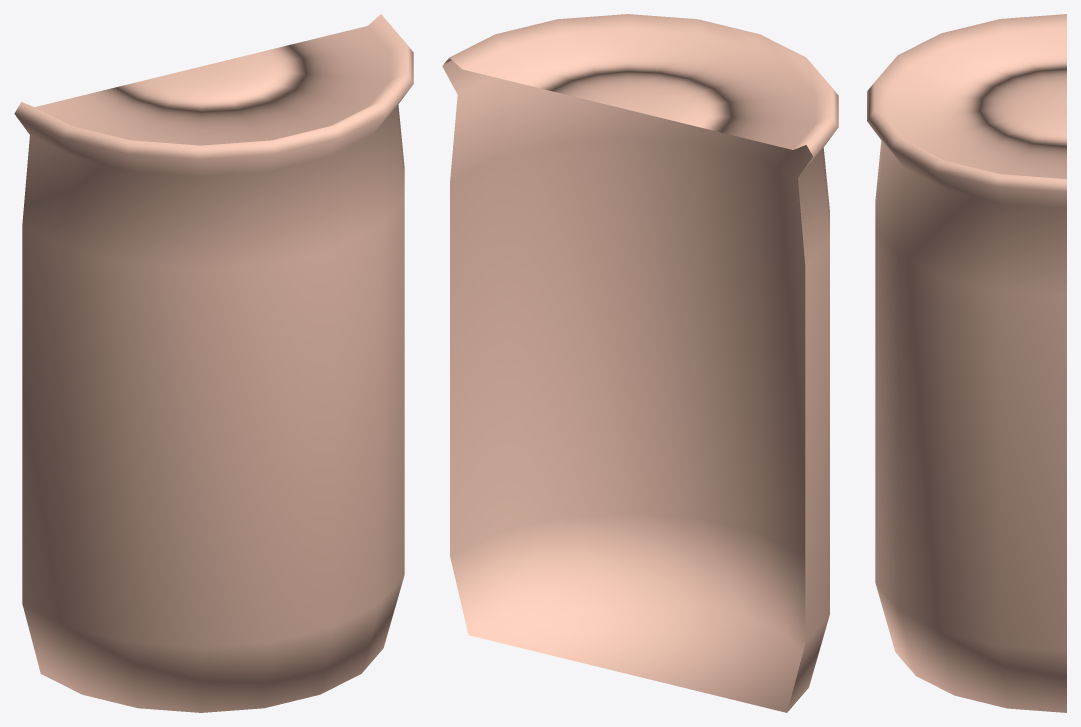
Rendered from barrel_high_1.dae.
3 renders of one model, left to right at view 1: azimuth 30°, elevation 25°; view 2: azimuth 150°, elevation 25°; view 3: azimuth 270°, elevation 25°, orthographic. The views are drawn at different scales.
Visible parts, largest first — view 1: Plane; view 2: Plane; view 3: Plane.
Part boxes in pixels (x1,y1,x2,y2): Plane: (14,14,413,712); Plane: (442,14,838,712); Plane: (867,14,1066,712).
Size of the model in its own units: 0.6056 by 0.2982 by 0.8934.
